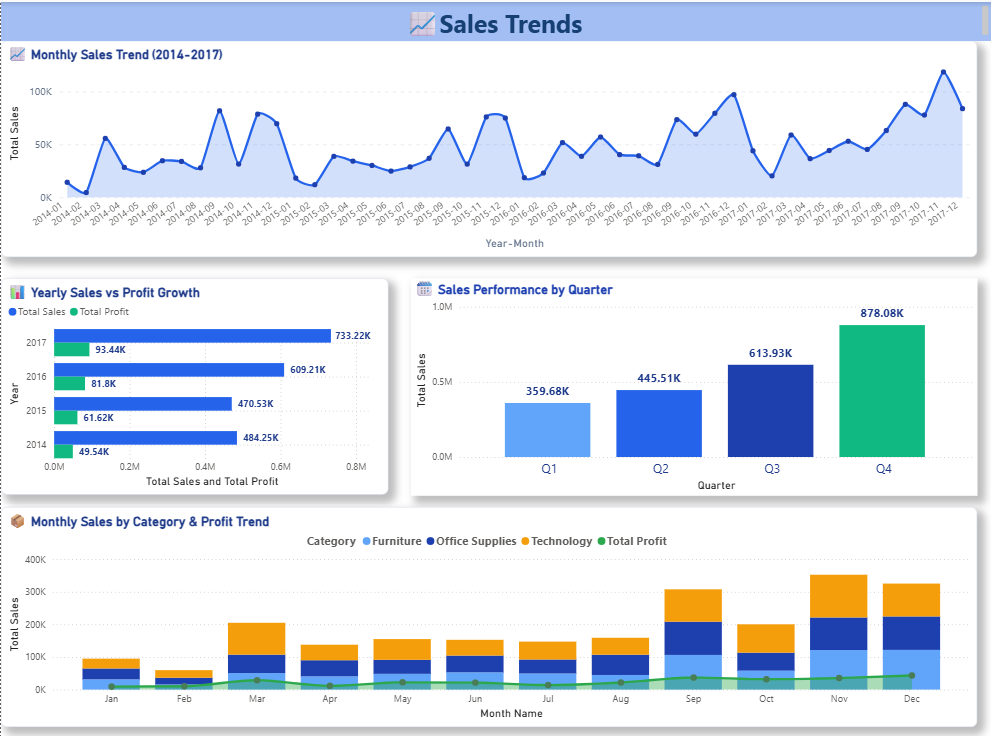

This screenshot's page, from the dashboard's own definition file:
{"tool":"powerbi","page":{"name":"Sales Trends","canvas":[1280,950],"ordinal":1},"visuals":[{"type":"lineChart","title":"📈 Monthly Sales Trend (2014-2017)","fields":{"Category":["Date Table.Year-Month"],"Y":["superstore_clean.Total Sales"]},"box":[0,50,1260.1,279.1],"z":0},{"type":"clusteredBarChart","title":"📊 Yearly Sales vs Profit Growth","fields":{"Category":["Date Table.Year"],"Y":["superstore_clean.Total Sales","superstore_clean.Total Profit"]},"box":[0,356.6,500.2,279.1],"z":1000},{"type":"clusteredColumnChart","title":"🗓️ Sales Performance by Quarter","fields":{"Category":["Date Table.Quarter"],"Y":["superstore_clean.Total Sales"]},"box":[529.2,356.6,730.9,280.7],"z":2000},{"type":"lineStackedColumnComboChart","title":"📦 Monthly Sales by Category & Profit Trend","fields":{"Category":["Date Table.Month Name"],"Y":["superstore_clean.Total Sales"],"Y2":["superstore_clean.Total Profit"],"Series":["superstore_clean.Category"]},"box":[0,651.8,1260.1,284],"z":3000},{"type":"textbox","box":[0,0,1279.5,50],"z":4000}]}

Visuals, with their boxes in screenshot pixels (x1, y1, x2, y2), scaled from the page's 1280x950 canvas onto the 991x736 screenshot:
"📈 Monthly Sales Trend (2014-2017)" lineChart: bbox=[0, 39, 976, 255]
"📊 Yearly Sales vs Profit Growth" clusteredBarChart: bbox=[0, 276, 387, 493]
"🗓️ Sales Performance by Quarter" clusteredColumnChart: bbox=[410, 276, 976, 494]
"📦 Monthly Sales by Category & Profit Trend" lineStackedColumnComboChart: bbox=[0, 505, 976, 725]
textbox: bbox=[0, 0, 990, 39]
